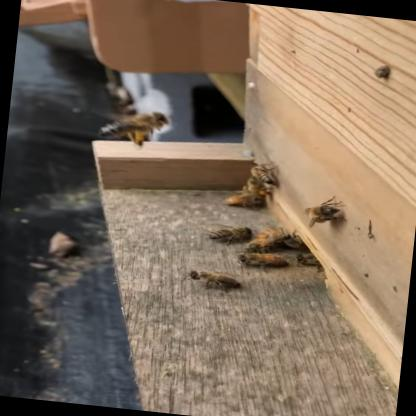bee: (180, 134, 390, 310), (82, 88, 188, 156), (214, 154, 296, 214), (284, 183, 359, 238), (169, 262, 254, 292), (201, 210, 261, 250)
